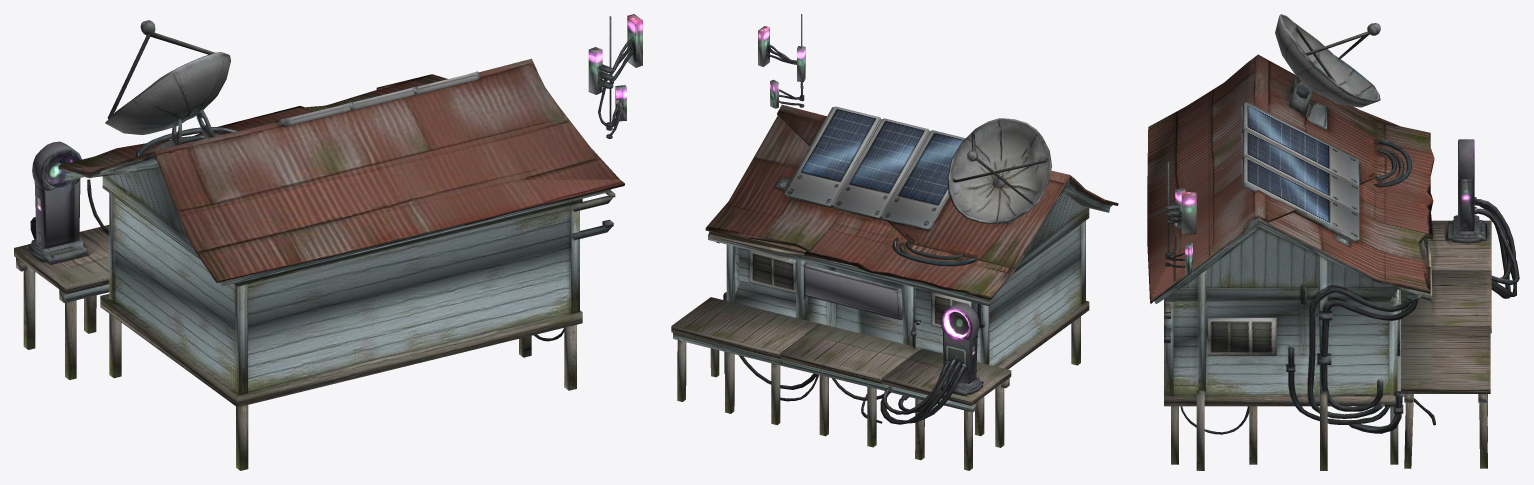
The model's file is kampong_ayer_house.glb.
The picture shows the model from 3 angles, left to right: view 1: azimuth 30°, elevation 25°; view 2: azimuth 150°, elevation 25°; view 3: azimuth 270°, elevation 25°; orthographic projection. The views are drawn at different scales.
Parts seen in each view (by area): view 1: Body; view 2: Body, Glow; view 3: Body, Glow.
Part boxes in pixels (x1,y1,x2,y2): Body: [14, 14, 642, 470]; Body: [671, 14, 1118, 470]; Glow: [763, 26, 971, 340]; Body: [1147, 14, 1519, 470]; Glow: [1175, 179, 1474, 268].
Bounding box in the file's own units: 10 × 7.77 × 8.28.
Materials: 2 (2 with a texture image).
